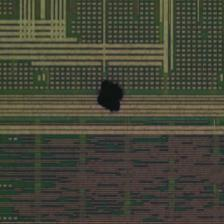PARTICLE: (96, 81, 128, 115)
